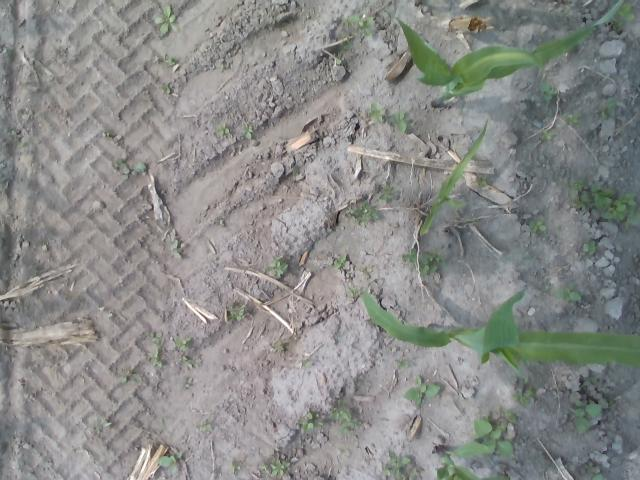Maize: (361, 285, 640, 379), (386, 0, 624, 108), (420, 117, 490, 234), (432, 442, 510, 480)
Weeds: (566, 176, 640, 228), (471, 412, 514, 456), (400, 247, 447, 277), (381, 450, 424, 480), (328, 400, 362, 436), (571, 398, 603, 434), (402, 376, 440, 406), (344, 202, 379, 227), (539, 283, 582, 303), (342, 13, 373, 38), (611, 1, 635, 30), (258, 458, 292, 478), (156, 5, 180, 33), (157, 450, 184, 474), (297, 412, 324, 432), (266, 256, 290, 278), (511, 386, 536, 407), (388, 110, 411, 132), (594, 97, 616, 120), (372, 184, 396, 202), (538, 81, 558, 101), (580, 239, 598, 258), (367, 103, 386, 121), (117, 370, 143, 383), (527, 218, 547, 234), (498, 406, 518, 422), (148, 348, 164, 367), (562, 112, 581, 127), (168, 239, 181, 259), (114, 158, 130, 174), (174, 336, 190, 352), (580, 376, 600, 388), (333, 253, 348, 268), (589, 465, 604, 480), (338, 38, 352, 54), (538, 128, 554, 142), (150, 331, 164, 346), (214, 123, 230, 136), (228, 308, 244, 321), (242, 122, 254, 139), (348, 284, 360, 300), (181, 356, 194, 370), (474, 174, 486, 188), (133, 161, 146, 173), (200, 421, 213, 433), (395, 359, 408, 370), (229, 462, 242, 472), (301, 358, 311, 368), (19, 137, 28, 147), (166, 58, 176, 66), (161, 85, 171, 93), (607, 400, 616, 408), (216, 219, 225, 227), (273, 342, 282, 350), (292, 166, 299, 175), (10, 130, 18, 136), (336, 58, 342, 65)
